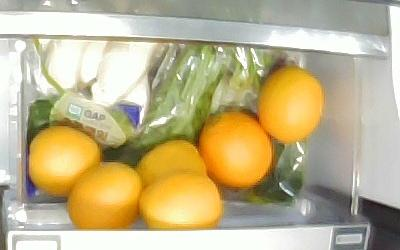orange: (198, 110, 273, 188), (26, 126, 101, 197), (257, 67, 324, 145), (67, 162, 141, 229), (138, 173, 221, 229), (132, 138, 206, 189)
